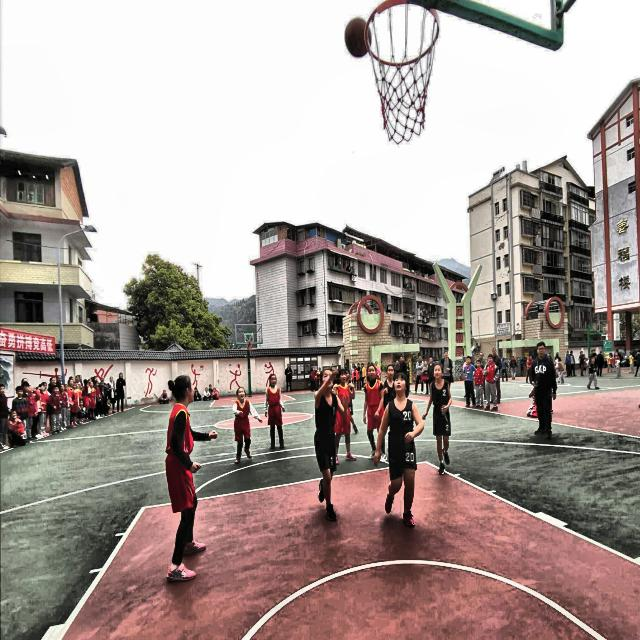board: (339, 12, 374, 65)
rim: (367, 1, 440, 142)
